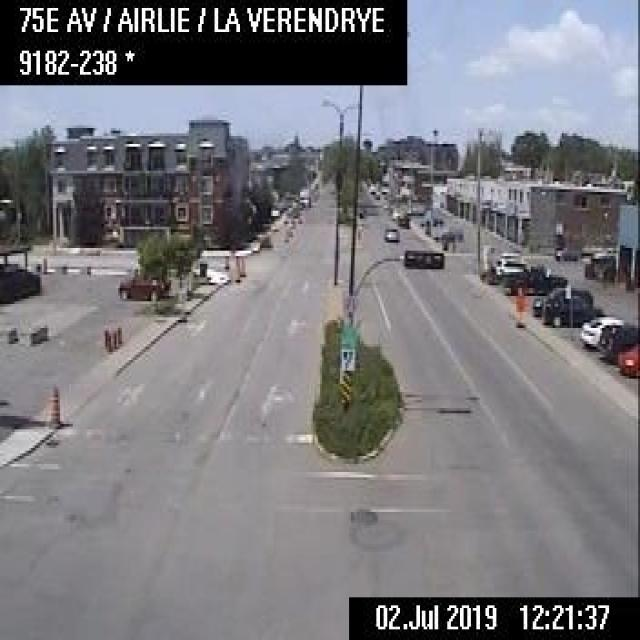construction: (45, 381, 60, 427), (511, 286, 524, 326), (233, 254, 240, 282), (238, 250, 246, 274), (105, 330, 112, 351), (222, 250, 229, 270), (115, 322, 121, 345), (281, 223, 287, 241), (111, 326, 116, 347), (102, 326, 106, 348)
vehicle: (542, 294, 602, 326), (530, 285, 591, 315), (503, 263, 566, 291), (578, 313, 626, 347), (599, 322, 638, 362), (116, 270, 167, 300), (617, 344, 637, 377), (495, 256, 527, 271), (552, 243, 578, 258), (382, 224, 398, 242), (297, 186, 309, 204), (396, 212, 408, 226), (390, 205, 402, 218)
